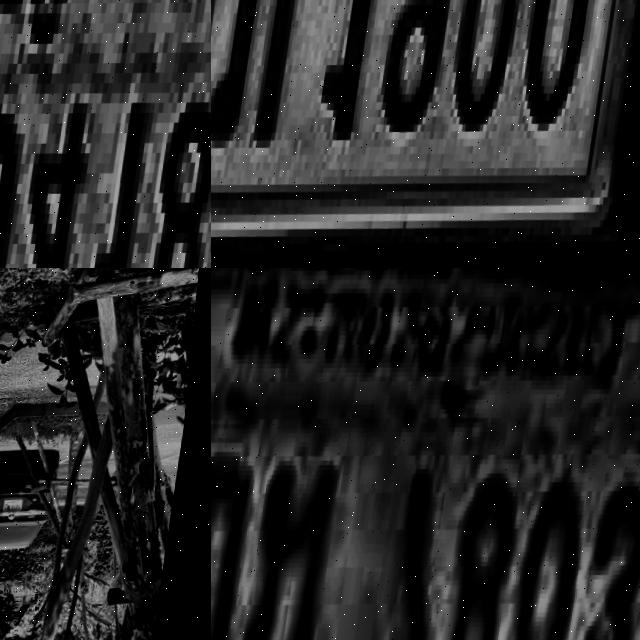license-plate: (211, 268, 640, 640), (211, 0, 640, 268), (0, 0, 211, 268), (11, 505, 32, 519)
